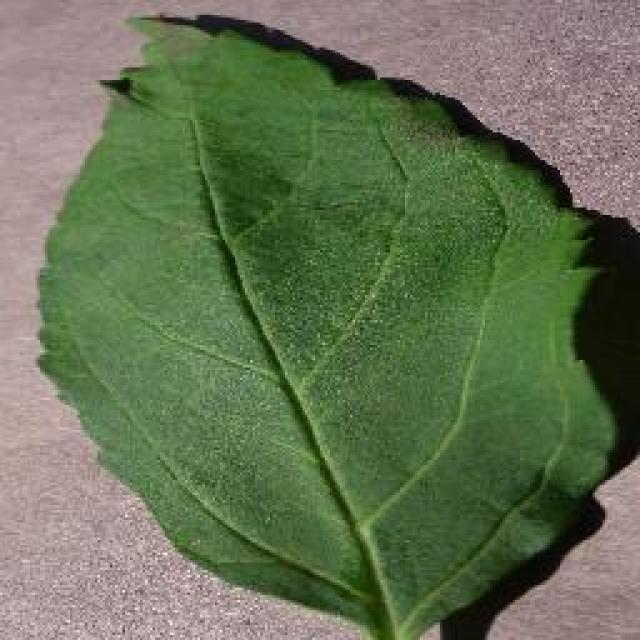Cherry___healthy: (20, 5, 630, 640)
